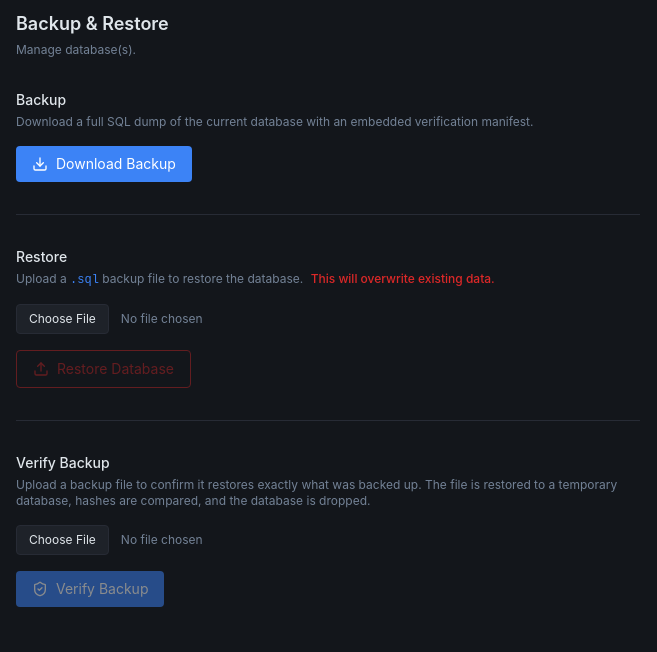
Test case: BackupRestorePage › shows error message when backup fetch fails
Click the button "Download Backup" at {"x": 104, "y": 164}, box top-left (16, 146), bottom-right (192, 182)
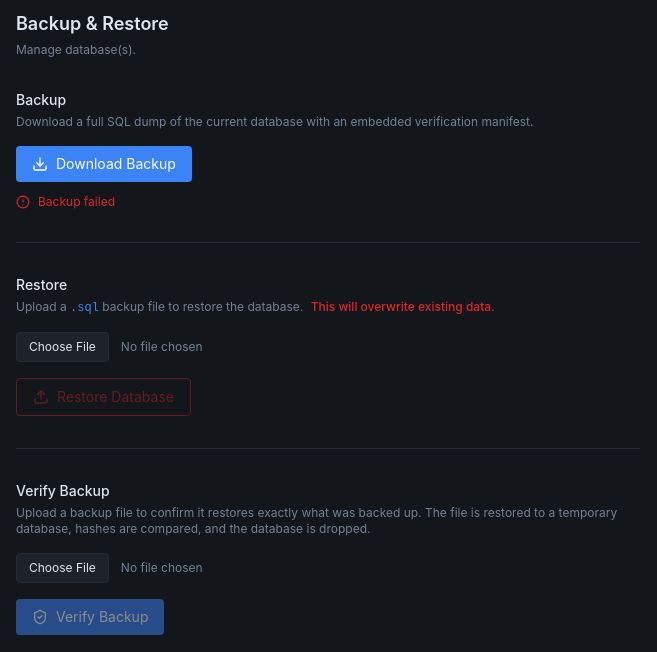
Check: the text "Backup failed" is shown, box top-left (16, 194), bottom-right (115, 209)
